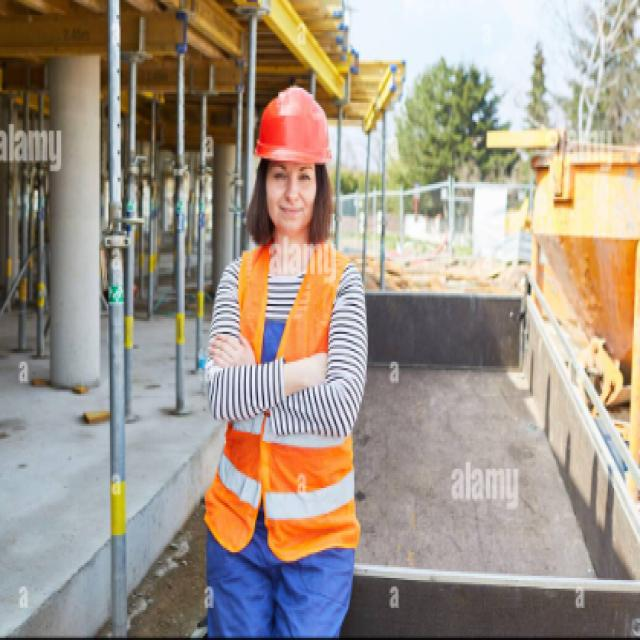helmet: (252, 86, 337, 239)
vest: (201, 237, 365, 567)
